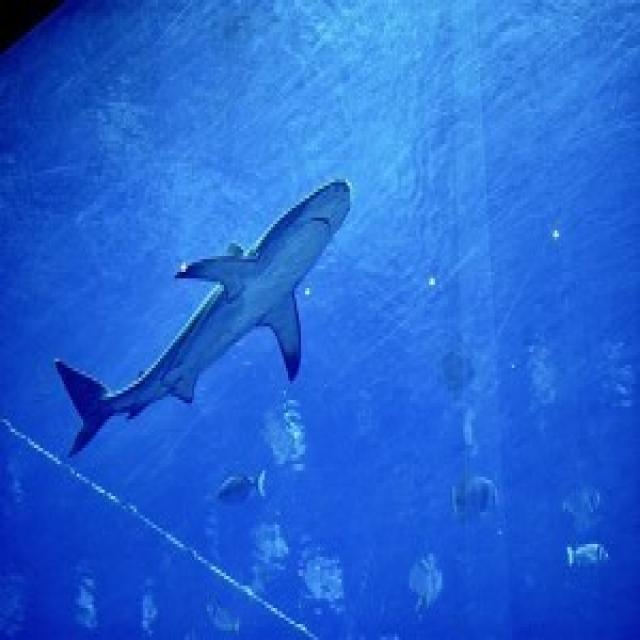Shark: (39, 166, 373, 457)
